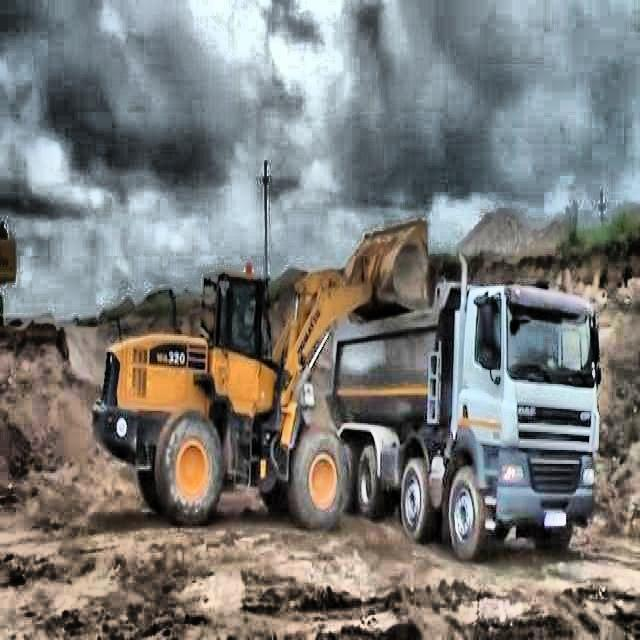bull_dozer/loader/grader: (91, 216, 428, 532)
dump_truck: (324, 247, 600, 560)
